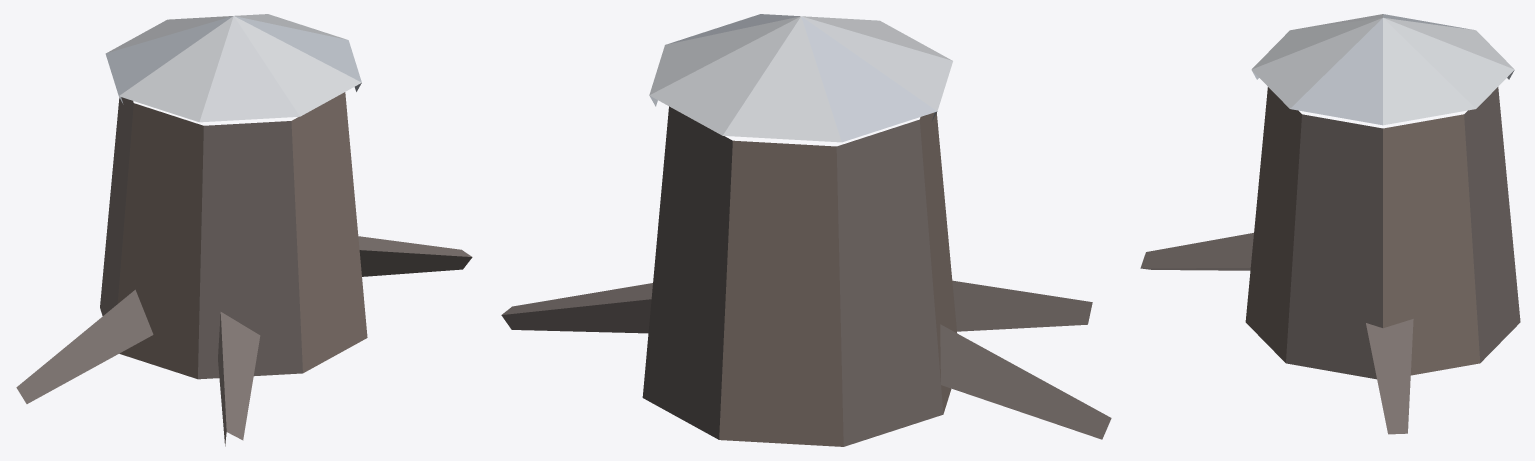
Rendered from kanto_2.glb.
3 views of the same model, side by side, from view 1: azimuth 30°, elevation 25°; view 2: azimuth 150°, elevation 25°; view 3: azimuth 270°, elevation 25° (orthographic). The views are drawn at different scales.
Visible parts, largest first — view 1: kanto_2; view 2: kanto_2; view 3: kanto_2.
Boxes of the visible parts, x1,y1,x2,y2 form: kanto_2: (16, 14, 472, 446); kanto_2: (501, 14, 1111, 446); kanto_2: (1140, 14, 1520, 434).
Bounding box in the file's own units: 1.44 × 0.9088 × 0.9954.
